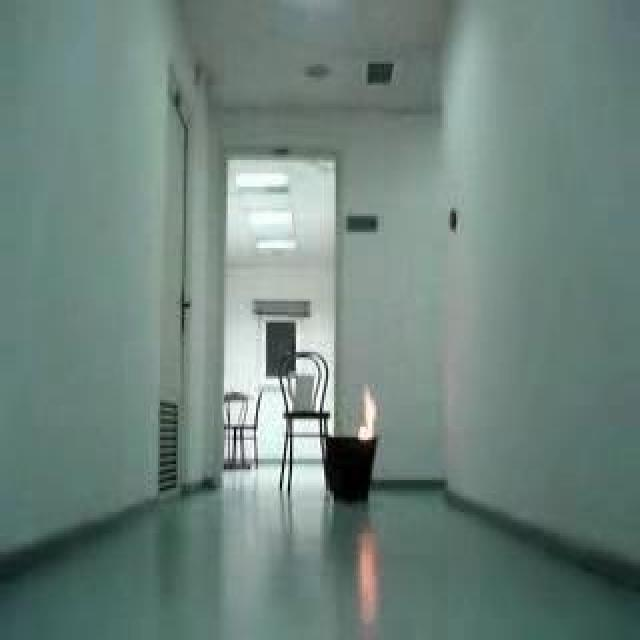Fire: (355, 380, 381, 439)
